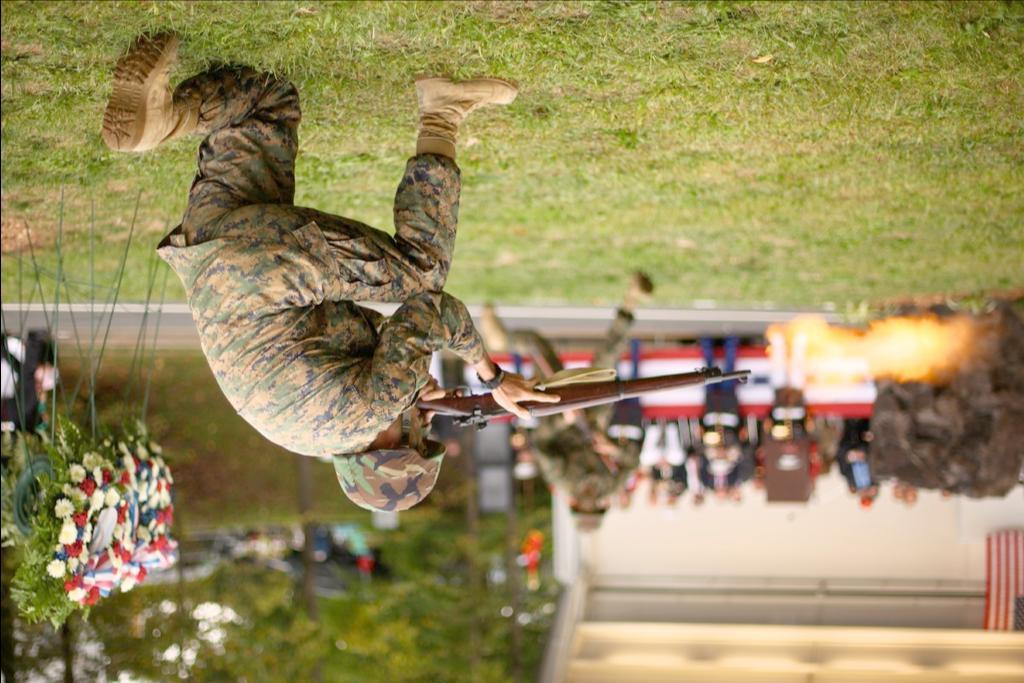gun: (374, 306, 784, 427)
